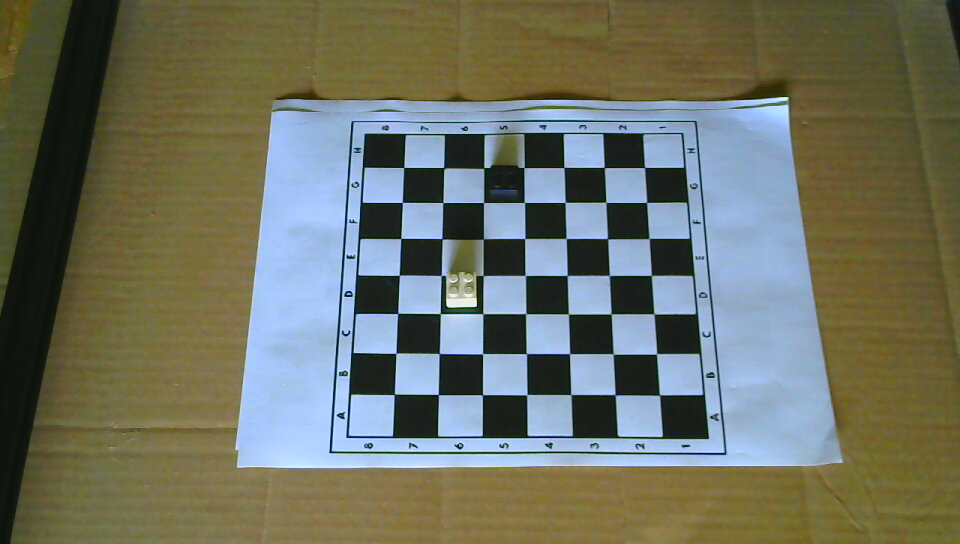bp: (487, 161, 523, 202)
wp: (443, 267, 479, 309)
